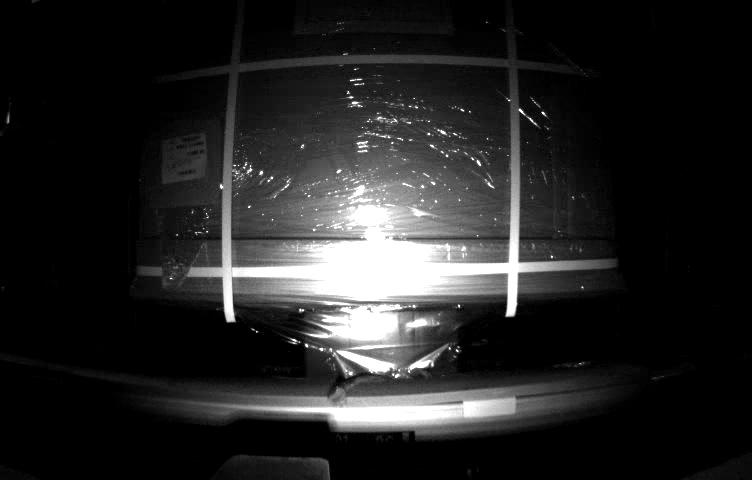True Barcode: (160, 135, 206, 183)
